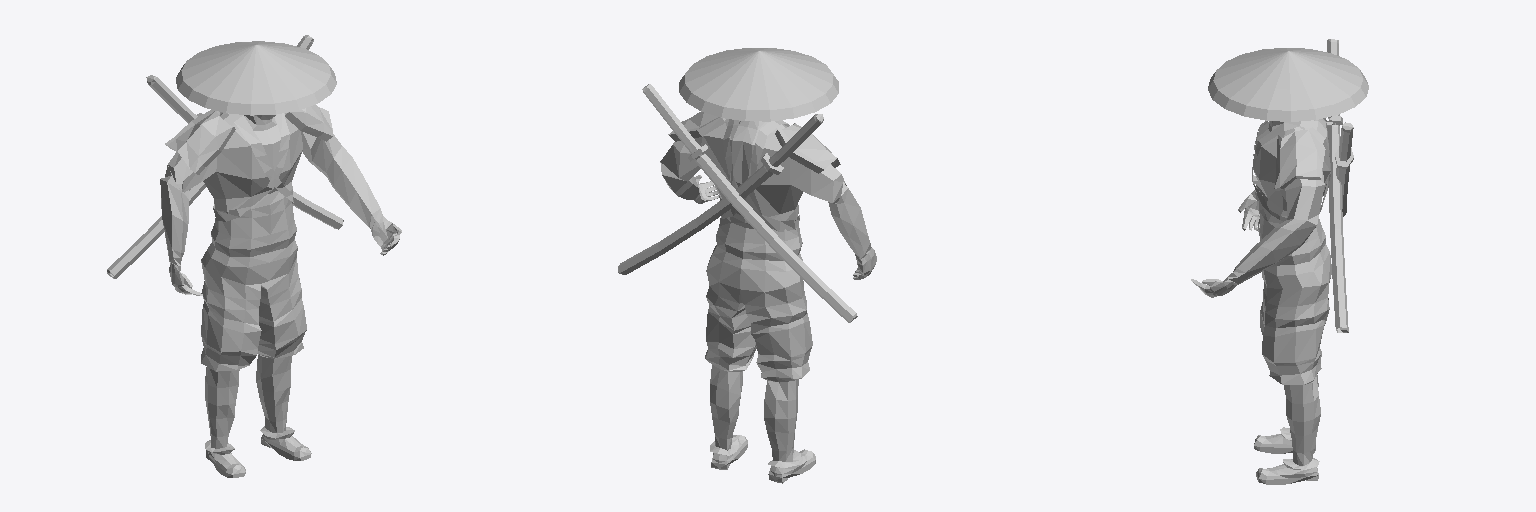
File: warrior.obj
3 views of the same model, side by side, from view 1: azimuth 30°, elevation 25°; view 2: azimuth 150°, elevation 25°; view 3: azimuth 270°, elevation 25° (orthographic).
Visible parts, largest first — view 1: warrior:group warrior:pasted__polySurface72 warrior:polySurface1; view 2: warrior:group warrior:pasted__polySurface72 warrior:polySurface1; view 3: warrior:group warrior:pasted__polySurface72 warrior:polySurface1.
Part boxes in pixels (x1,y1,x2,y2): warrior:group warrior:pasted__polySurface72 warrior:polySurface1: (107,35,401,477); warrior:group warrior:pasted__polySurface72 warrior:polySurface1: (618,48,876,483); warrior:group warrior:pasted__polySurface72 warrior:polySurface1: (1191,39,1368,484).
Size of the model in its own units: 0.8036 by 1.35 by 0.5284.